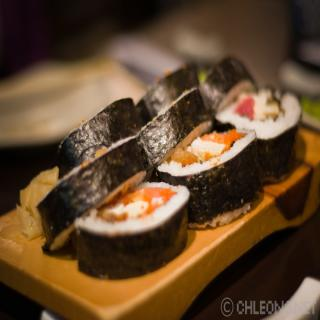Sushi: (38, 71, 290, 273)
